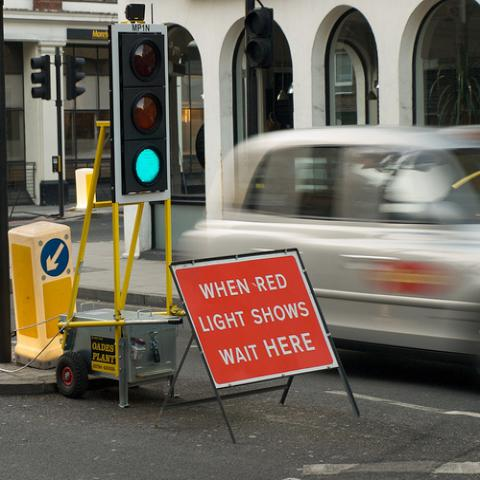car: (177, 125, 479, 355)
